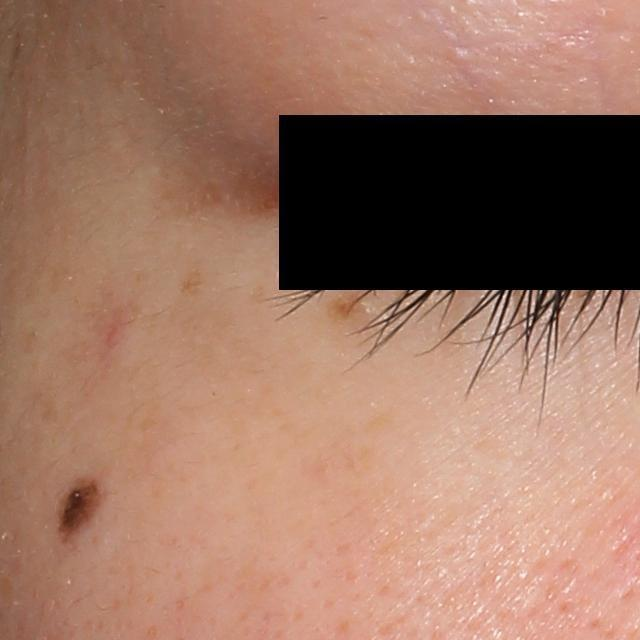melasma: (325, 288, 372, 325)
nevus: (52, 477, 107, 541)
